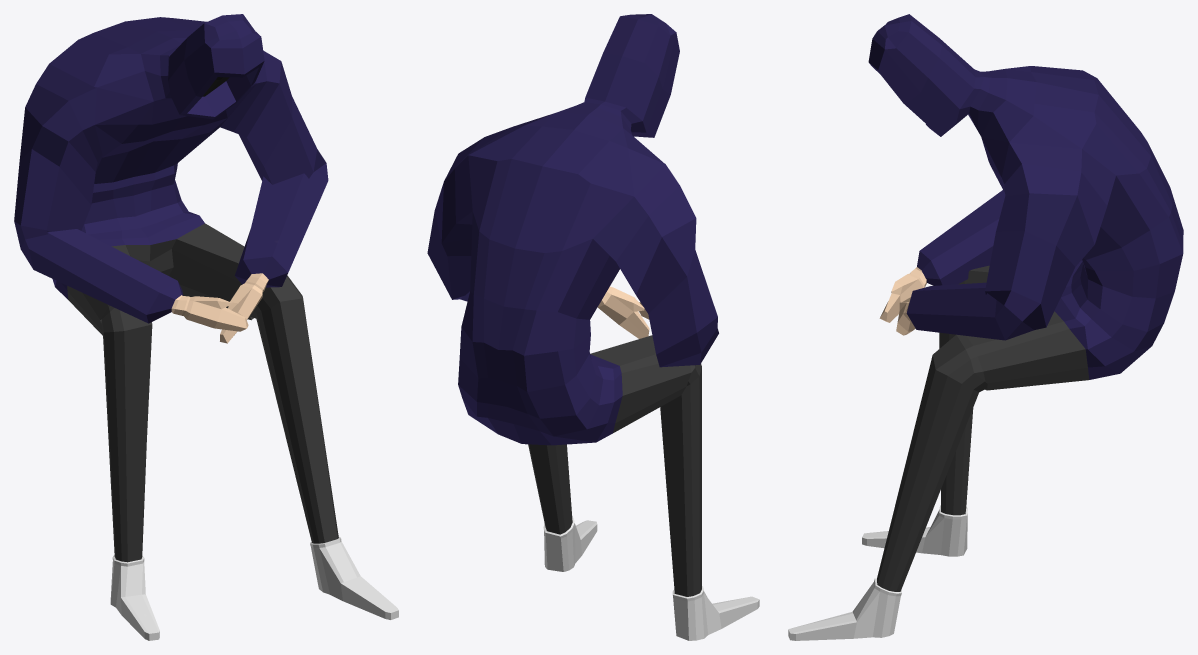
Rendered from HoodlumMesh_SittingPose_001.FBX.
3 views of the same model, side by side, from view 1: azimuth 30°, elevation 25°; view 2: azimuth 150°, elevation 25°; view 3: azimuth 270°, elevation 25° (orthographic). The views are drawn at different scales.
Parts seen in each view (by area): view 1: Hoodlum_Youth_Character; view 2: Hoodlum_Youth_Character; view 3: Hoodlum_Youth_Character.
Boxes of the visible parts, bbox=[...] form: Hoodlum_Youth_Character: bbox=[14, 14, 398, 640]; Hoodlum_Youth_Character: bbox=[427, 14, 759, 640]; Hoodlum_Youth_Character: bbox=[788, 14, 1183, 640].
Bounding box in the file's own units: 26.59 × 50.64 × 32.08.
Materials: 1 (1 with a texture image).
